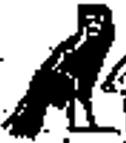Owl: (3, 2, 119, 141)
